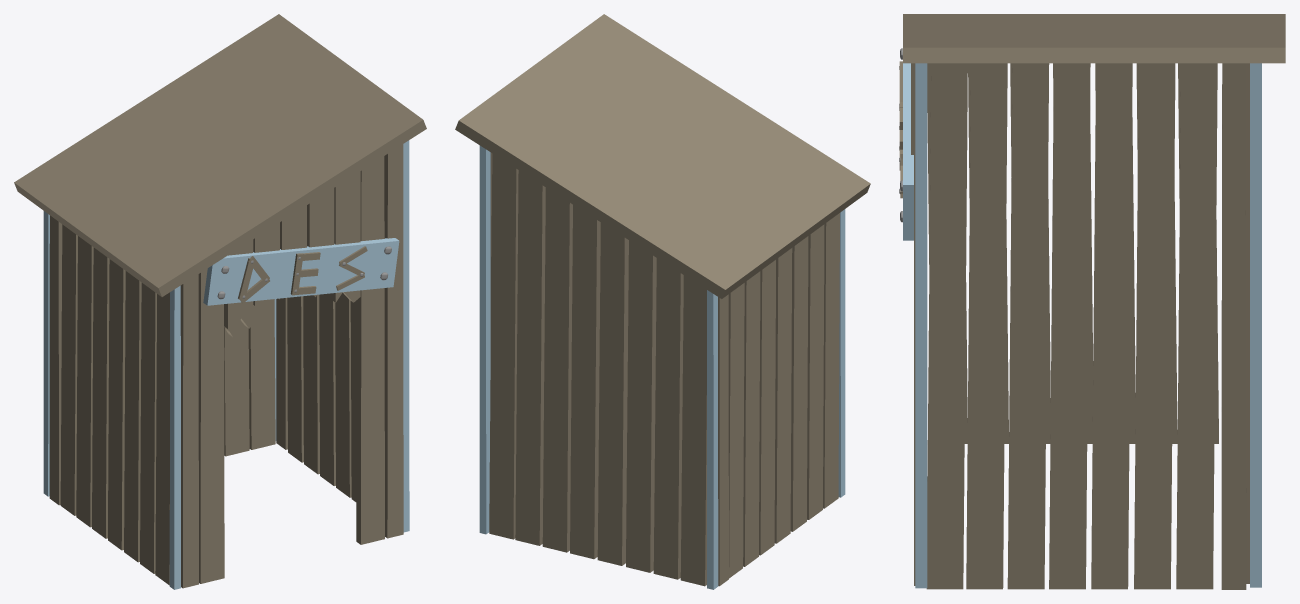
File: DesHutje.fbx
3 renders of one model, left to right at view 1: azimuth 30°, elevation 25°; view 2: azimuth 150°, elevation 25°; view 3: azimuth 270°, elevation 25°, orthographic. The views are drawn at different scales.
Visible parts, largest first — view 1: pCube4, pasted__pCube5 (×3), pasted__pasted__pasted__pasted__pasted__pasted__pasted__past (×5), pasted__pasted__pCube5 (×3), pasted__pasted__pasted__pasted__pCube5 (×4), pasted__pasted__pasted__pasted__pasted__pasted__pasted__pCub (×3), pasted__pasted__pasted__pasted__pasted__pCube5 (×2), pasted__pasted__pasted__pasted__pasted__pasted__pCube5 (×2), pCube6, pasted__pasted__pasted__pCube5 (×2), pCube5, pasted__pasted__pasted__pasted__pCube2 (+4 smaller); view 2: pCube4, pasted__pasted__pasted__pasted__pasted__pasted__pasted__past (×6), pasted__pasted__pasted__pasted__pCube5 (×3), pasted__pasted__pasted__pCube5 (×3), pasted__pasted__pasted__pasted__pasted__pCube5 (×2), pasted__pasted__pasted__pasted__pasted__pasted__pCube5 (×2), pasted__pasted__pasted__pasted__pasted__pasted__pasted__pCub (×2), pasted__pCube5; view 3: pasted__pasted__pCube5 (×3), pasted__pasted__pasted__pCube5 (×3), pasted__pasted__pasted__pasted__pasted__pasted__pasted__past (×4), pasted__pasted__pasted__pasted__pasted__pasted__pCube5 (×2), pasted__pasted__pasted__pasted__pasted__pasted__pasted__pCub (×2), pasted__pasted__pasted__pasted__pasted__pCube5 (×2), pasted__pasted__pasted__pasted__pCube5 (×2), pCube4, pCube6, pasted__pCube5.
Boxes of the visible parts, x1=… form: pCube4: x1=14, y1=14, x2=426, y2=296; pasted__pCube5 (×3): x1=169, y1=144, x2=403, y2=589; pasted__pasted__pasted__pasted__pasted__pasted__pasted__past (×5): x1=124, y1=222, x2=303, y2=585; pasted__pasted__pCube5 (×3): x1=276, y1=140, x2=409, y2=544; pasted__pasted__pasted__pasted__pCube5 (×4): x1=43, y1=211, x2=356, y2=515; pasted__pasted__pasted__pasted__pasted__pasted__pasted__pCub (×3): x1=108, y1=188, x2=334, y2=550; pasted__pasted__pasted__pasted__pasted__pCube5 (×2): x1=76, y1=236, x2=351, y2=527; pasted__pasted__pasted__pasted__pasted__pasted__pCube5 (×2): x1=92, y1=247, x2=335, y2=538; pCube6: x1=203, y1=238, x2=399, y2=305; pasted__pasted__pasted__pCube5 (×2): x1=49, y1=215, x2=275, y2=505; pCube5: x1=180, y1=274, x2=198, y2=588; pasted__pasted__pasted__pasted__pCube2: x1=331, y1=171, x2=360, y2=302; pCube4: x1=455, y1=14, x2=870, y2=298; pasted__pasted__pasted__pasted__pasted__pasted__pasted__past (×6): x1=626, y1=213, x2=839, y2=586; pasted__pasted__pasted__pasted__pCube5 (×3): x1=515, y1=170, x2=744, y2=589; pasted__pasted__pasted__pCube5 (×3): x1=479, y1=145, x2=728, y2=586; pasted__pasted__pasted__pasted__pasted__pCube5 (×2): x1=542, y1=187, x2=760, y2=566; pasted__pasted__pasted__pasted__pasted__pasted__pCube5 (×2): x1=570, y1=205, x2=775, y2=559; pasted__pasted__pasted__pasted__pasted__pasted__pasted__pCub (×2): x1=597, y1=222, x2=792, y2=565; pasted__pCube5: x1=838, y1=209, x2=845, y2=497; pasted__pasted__pCube5 (×3): x1=915, y1=63, x2=1246, y2=589; pasted__pasted__pasted__pCube5 (×3): x1=966, y1=63, x2=1261, y2=589; pasted__pasted__pasted__pasted__pasted__pasted__pasted__past (×4): x1=927, y1=63, x2=1217, y2=589; pasted__pasted__pasted__pasted__pasted__pasted__pCube5 (×2): x1=1091, y1=63, x2=1135, y2=589; pasted__pasted__pasted__pasted__pasted__pasted__pasted__pCub (×2): x1=1053, y1=63, x2=1175, y2=589; pasted__pasted__pasted__pasted__pasted__pCube5 (×2): x1=1049, y1=63, x2=1177, y2=589; pasted__pasted__pasted__pasted__pCube5 (×2): x1=1007, y1=63, x2=1218, y2=589; pCube4: x1=903, y1=14, x2=1285, y2=63; pCube6: x1=903, y1=63, x2=913, y2=240; pasted__pCube5: x1=914, y1=63, x2=915, y2=585.
Bounding box in the file's own units: 6.94 × 10.23 × 6.53.
